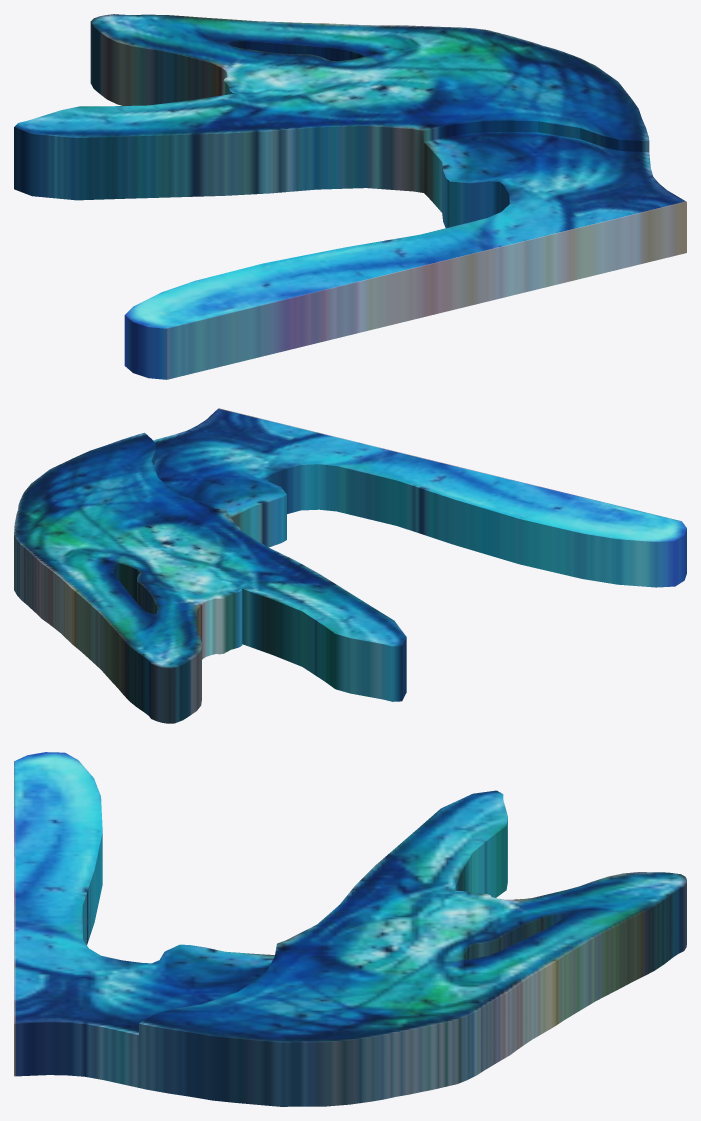
The model's file is el despertar 1.dae.
The picture shows the model from 3 angles, top to bottom: view 1: azimuth 30°, elevation 25°; view 2: azimuth 150°, elevation 25°; view 3: azimuth 270°, elevation 25°; orthographic projection. The views are drawn at different scales.
Visible parts, largest first — view 1: SketchUp (×2); view 2: SketchUp (×2); view 3: SketchUp (×2).
Part boxes in pixels (left/top/right/bottom): SketchUp (×2): left=14, top=14, right=686, bottom=379; SketchUp (×2): left=14, top=408, right=686, bottom=723; SketchUp (×2): left=14, top=752, right=686, bottom=1106.
Size of the model in its own units: 24.55 by 23.12 by 2.44.
Materials: 2 (1 with a texture image).
